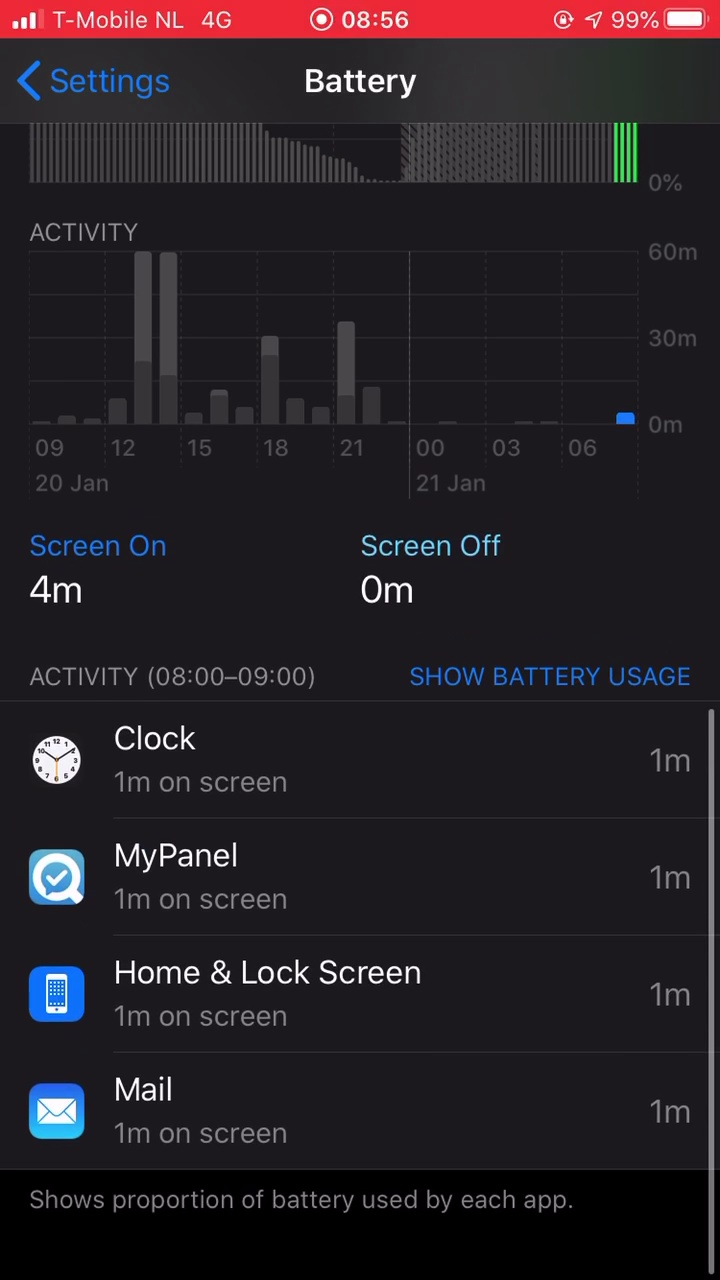activity: (17, 635, 357, 711)
app: (23, 716, 701, 813), (20, 836, 698, 933), (23, 954, 701, 1051), (24, 1065, 702, 1162)
